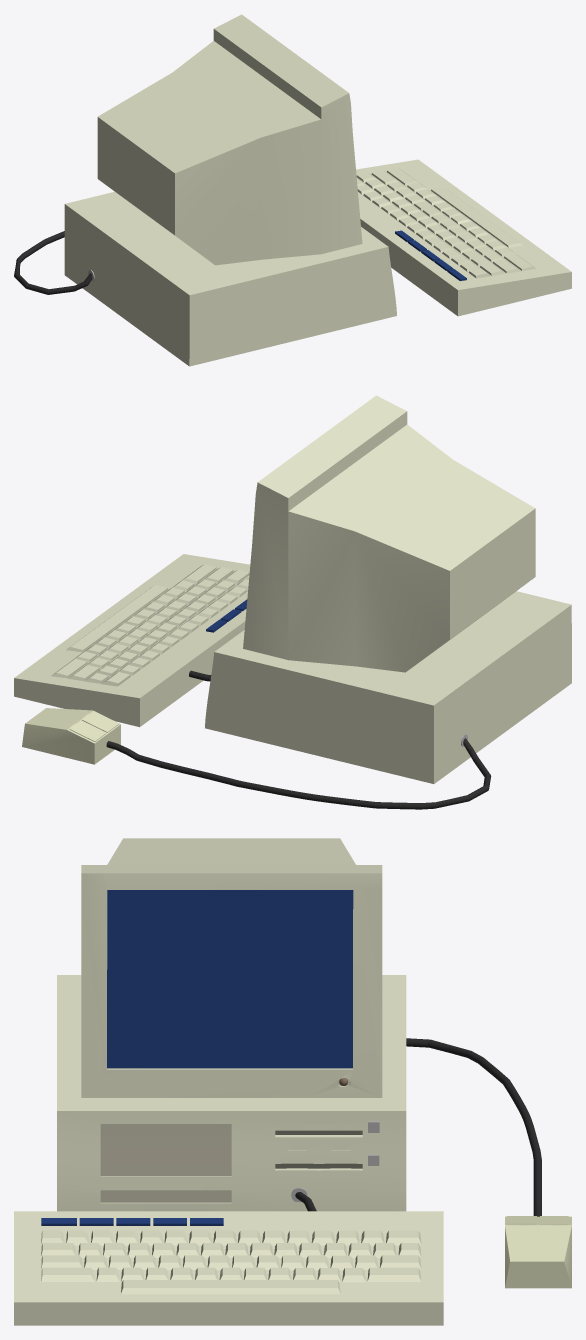
The picture shows the model from 3 angles, top to bottom: view 1: azimuth 30°, elevation 25°; view 2: azimuth 150°, elevation 25°; view 3: azimuth 270°, elevation 25°; orthographic projection. The views are drawn at different scales.
Parts seen in each view (by area): view 1: Cube.001, Cube, Cube.003 (×2), Cylinder; view 2: Cube.001, Cube, Cube.003, Cube.002, Cylinder; view 3: Cube.001 (×2), Cube.003 (×2), Cube (×3), Cube.002, Cylinder.
Part boxes in pixels (<box>): Cube.001: <box>97,14,362,265</box>; Cube: <box>64,191,396,366</box>; Cube.003 (×2): <box>356,159,571,316</box>; Cylinder: <box>14,231,92,294</box>; Cube.001: <box>243,395,535,672</box>; Cube: <box>205,591,571,783</box>; Cube.003: <box>14,554,250,727</box>; Cube.002: <box>22,708,120,764</box>; Cylinder: <box>106,738,491,809</box>; Cube.001 (×2): <box>81,838,382,1097</box>; Cube.003 (×2): <box>14,1211,443,1325</box>; Cube (×3): <box>57,975,406,1211</box>; Cube.002: <box>505,1216,571,1288</box>; Cylinder: <box>406,1038,541,1216</box>.
Size of the model in its own units: 3.95 by 2.07 by 3.31.
